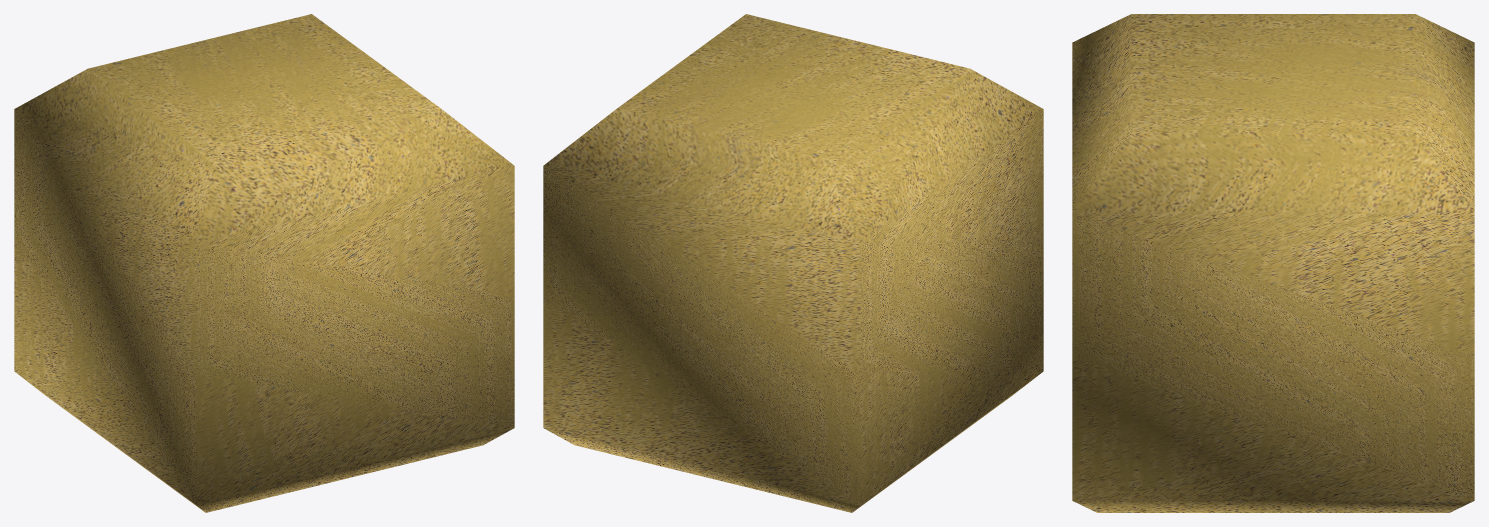
Rendered from Heno.fbx.
The picture shows the model from 3 angles, left to right: view 1: azimuth 30°, elevation 25°; view 2: azimuth 150°, elevation 25°; view 3: azimuth 270°, elevation 25°; orthographic projection. The views are drawn at different scales.
Parts seen in each view (by area): view 1: Cube.006; view 2: Cube.006; view 3: Cube.006.
Boxes of the visible parts, x1=… form: Cube.006: x1=14, y1=14, x2=514, y2=512; Cube.006: x1=543, y1=14, x2=1043, y2=512; Cube.006: x1=1072, y1=14, x2=1474, y2=512.
Size of the model in its own units: 464 by 464 by 464.
